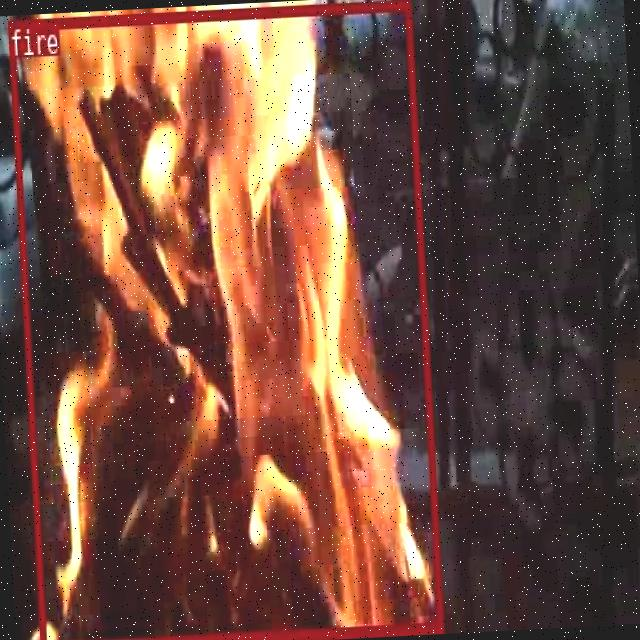fire: (7, 0, 442, 640)
